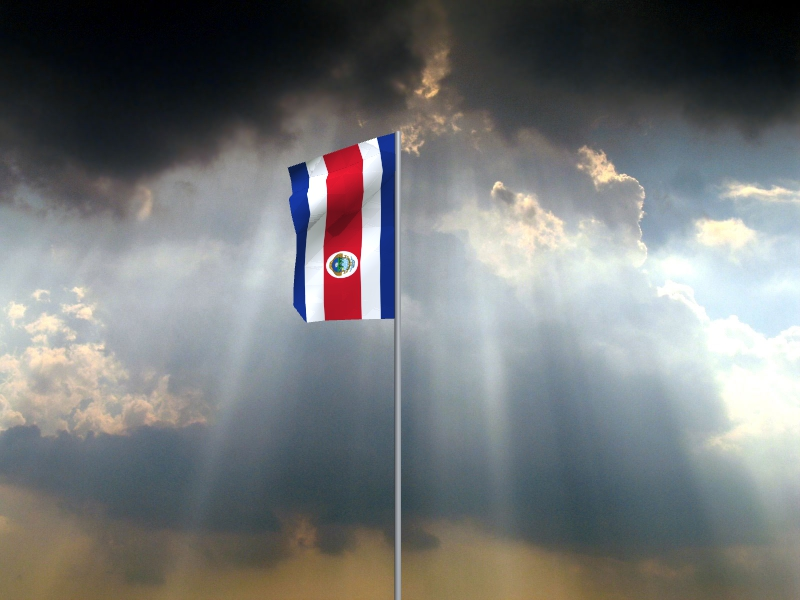cr: (287, 134, 395, 325)
